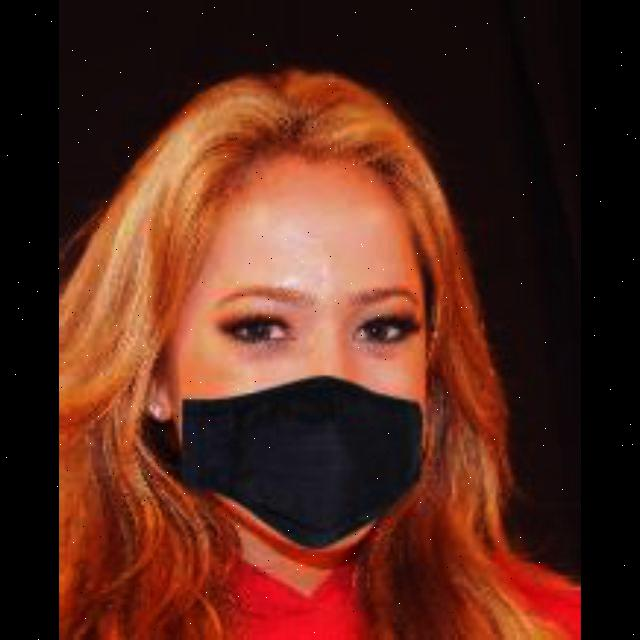suspicion: (114, 125, 482, 530)
